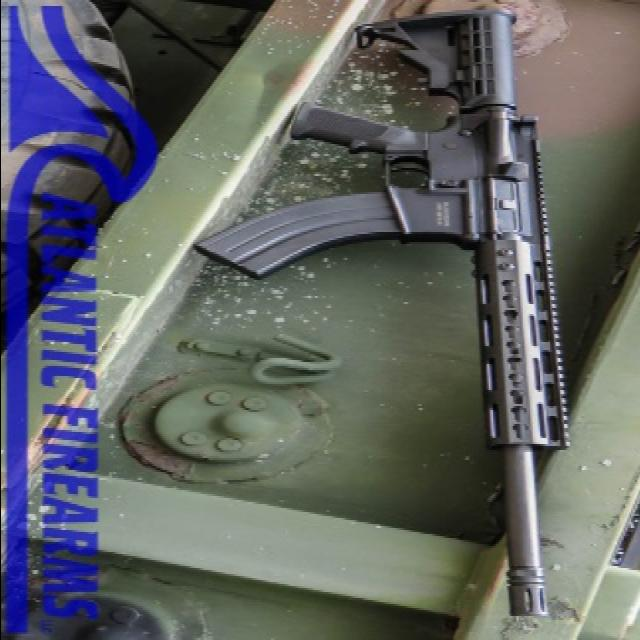rifle: (197, 7, 573, 621)
